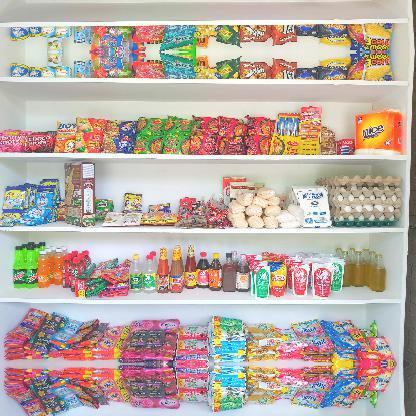Koko-Krunch: (62, 160, 96, 226)
